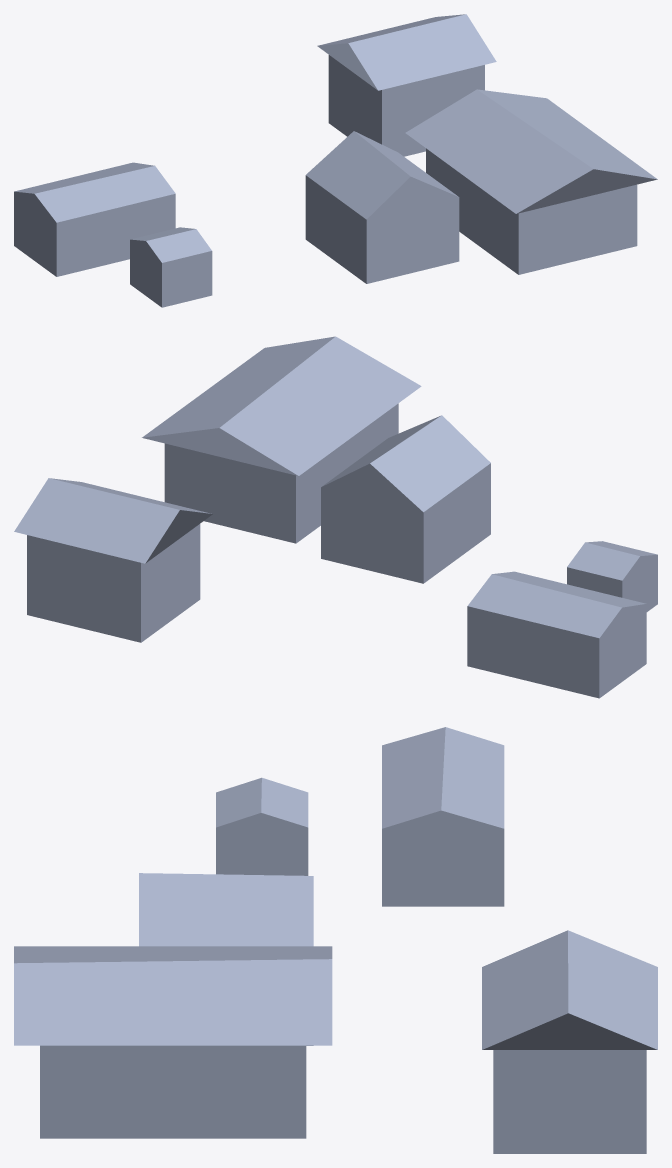
Rendered from village.glb.
3 renders of one model, top to bottom at view 1: azimuth 30°, elevation 25°; view 2: azimuth 150°, elevation 25°; view 3: azimuth 270°, elevation 25°, orthographic. The views are drawn at different scales.
Parts seen in each view (by area): view 1: Cube.025, Cube.022, Cube.024, Cube.023, Cube.026; view 2: Cube.025, Cube.024, Cube.022, Cube.023, Cube.026; view 3: Cube.025, Cube.024, Cube.023, Cube.022, Cube.026.
Boxes of the visible parts, x1=… form: Cube.025: x1=405, y1=89, x2=657, y2=274; Cube.022: x1=305, y1=131, x2=459, y2=283; Cube.024: x1=317, y1=14, x2=496, y2=156; Cube.023: x1=14, y1=162, x2=175, y2=276; Cube.026: x1=130, y1=227, x2=212, y2=307; Cube.025: x1=142, y1=336, x2=421, y2=543; Cube.024: x1=14, y1=478, x2=212, y2=642; Cube.022: x1=321, y1=415, x2=490, y2=583; Cube.023: x1=467, y1=571, x2=646, y2=698; Cube.026: x1=567, y1=541, x2=657, y2=611; Cube.025: x1=14, y1=946, x2=332, y2=1138; Cube.024: x1=482, y1=930, x2=657, y2=1153; Cube.023: x1=382, y1=727, x2=504, y2=906; Cube.022: x1=139, y1=873, x2=313, y2=1045; Cube.026: x1=216, y1=777, x2=308, y2=875.
Size of the model in its own units: 72.68 by 15.27 by 59.46.
